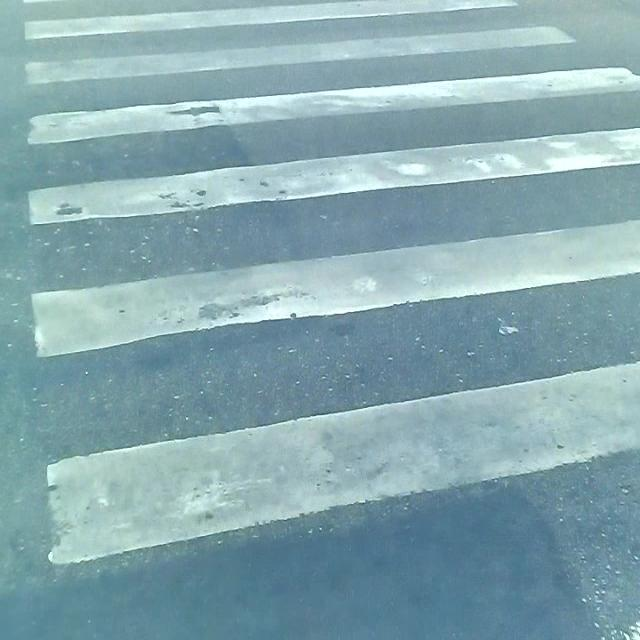crosswalk: (22, 0, 640, 640)
